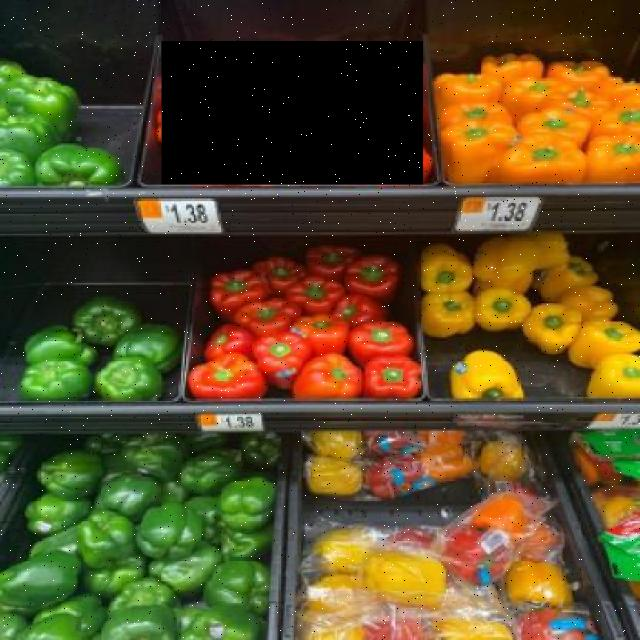Capsicum: (162, 40, 424, 184)
